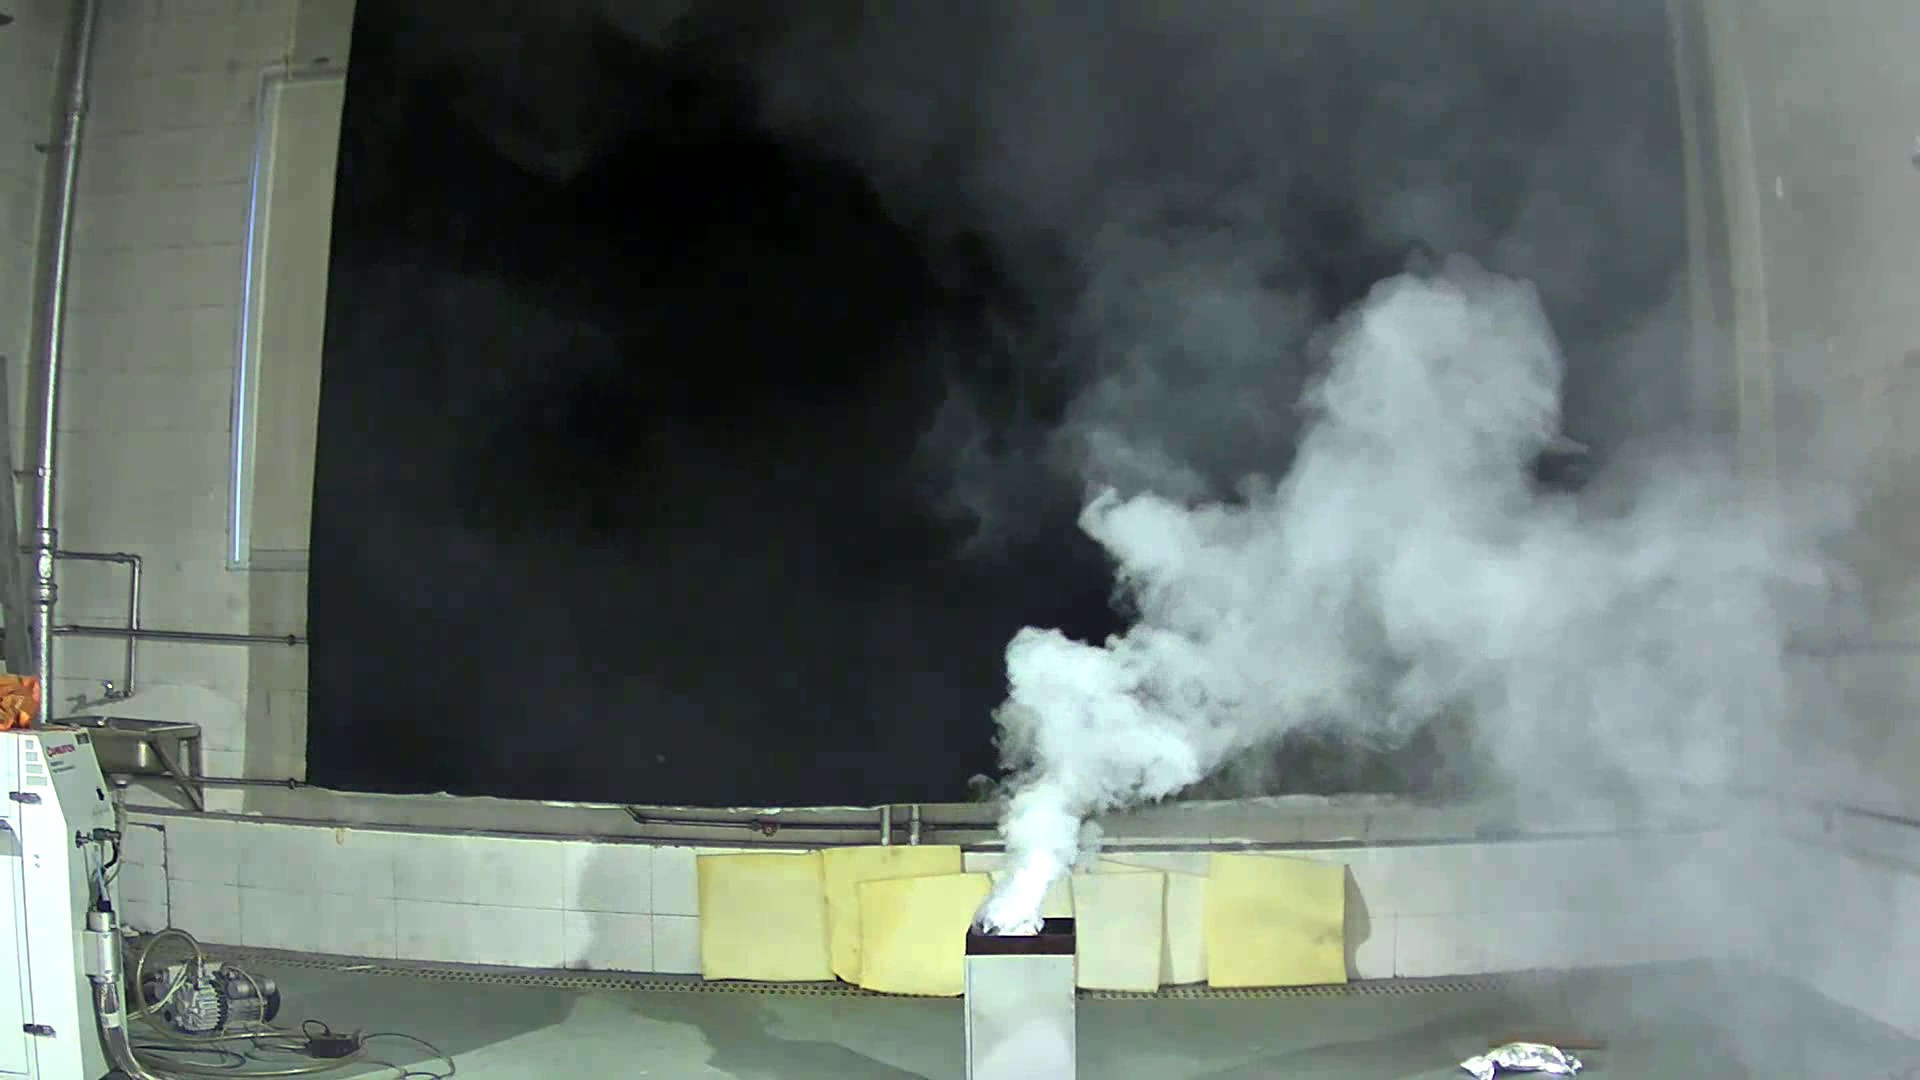smoke: (919, 138, 1692, 938)
